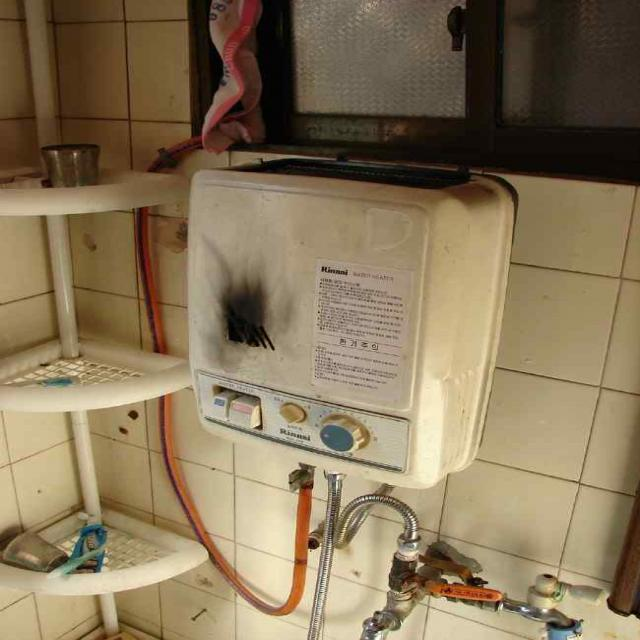Boiler: (145, 118, 603, 522)
